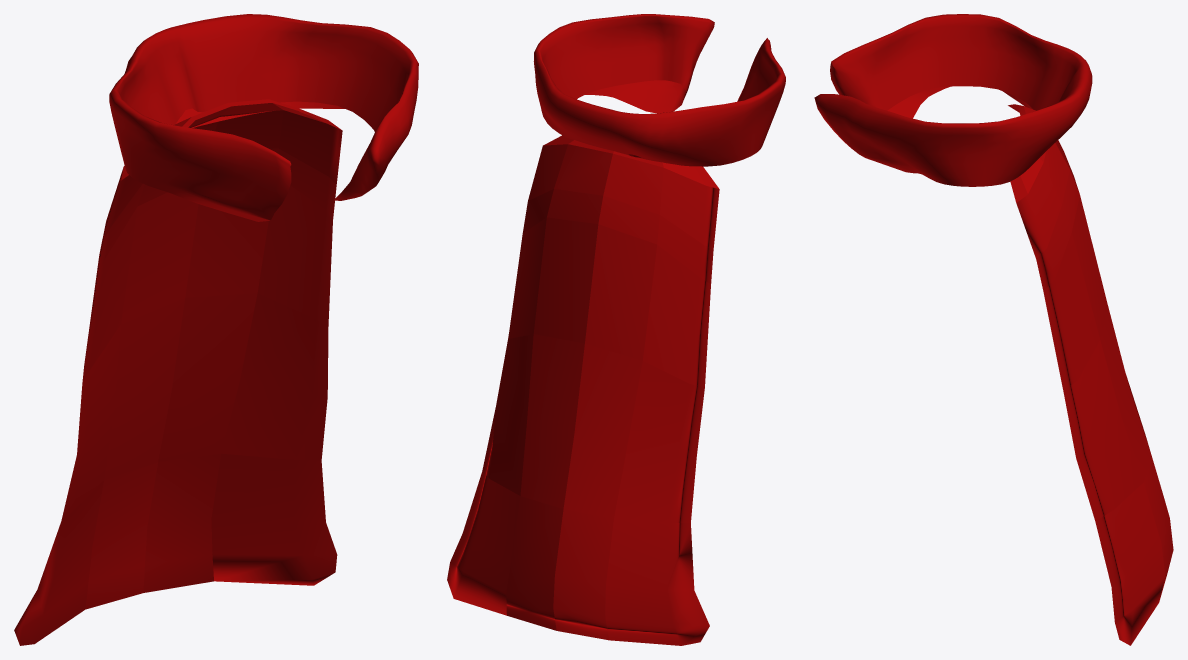
File: fizikli-pelerin.fbx
The picture shows the model from 3 angles, left to right: view 1: azimuth 30°, elevation 25°; view 2: azimuth 150°, elevation 25°; view 3: azimuth 270°, elevation 25°; orthographic projection. The views are drawn at different scales.
Visible parts, largest first — view 1: polySurface12, polySurface11; view 2: polySurface12, polySurface11; view 3: polySurface11, polySurface12.
Part boxes in pixels (x1,y1,x2,y2): polySurface12: (14,99,342,645); polySurface11: (109,14,418,221); polySurface12: (447,135,719,645); polySurface11: (533,14,785,166); polySurface11: (814,14,1092,186); polySurface12: (1008,104,1173,645).
Size of the model in its own units: 102 by 189 by 119.
